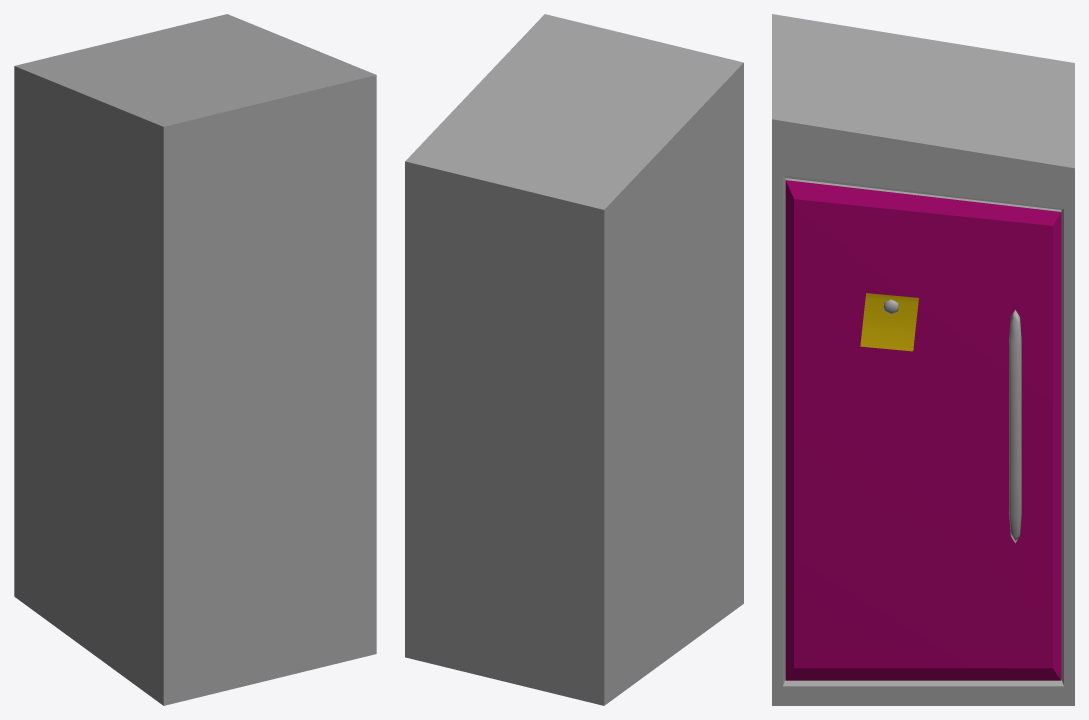
File: fridge.fbx
3 renders of one model, left to right at view 1: azimuth 30°, elevation 25°; view 2: azimuth 150°, elevation 25°; view 3: azimuth 270°, elevation 25°, orthographic. The views are drawn at different scales.
Visible parts, largest first — view 1: fridge; view 2: fridge; view 3: fridge, handle, stickynote.
Boxes of the visible parts, left/top/right/bottom form: fridge: left=14, top=14, right=376, bottom=705; fridge: left=405, top=14, right=743, bottom=705; fridge: left=772, top=14, right=1074, bottom=705; handle: left=1009, top=310, right=1021, bottom=543; stickynote: left=860, top=293, right=918, bottom=351.
Bounding box in the file's own units: 2.99 × 7.13 × 3.33.
